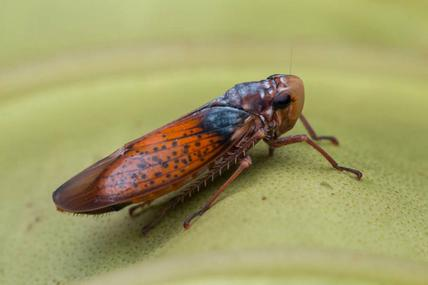Cicadellidae: (52, 76, 362, 230)
